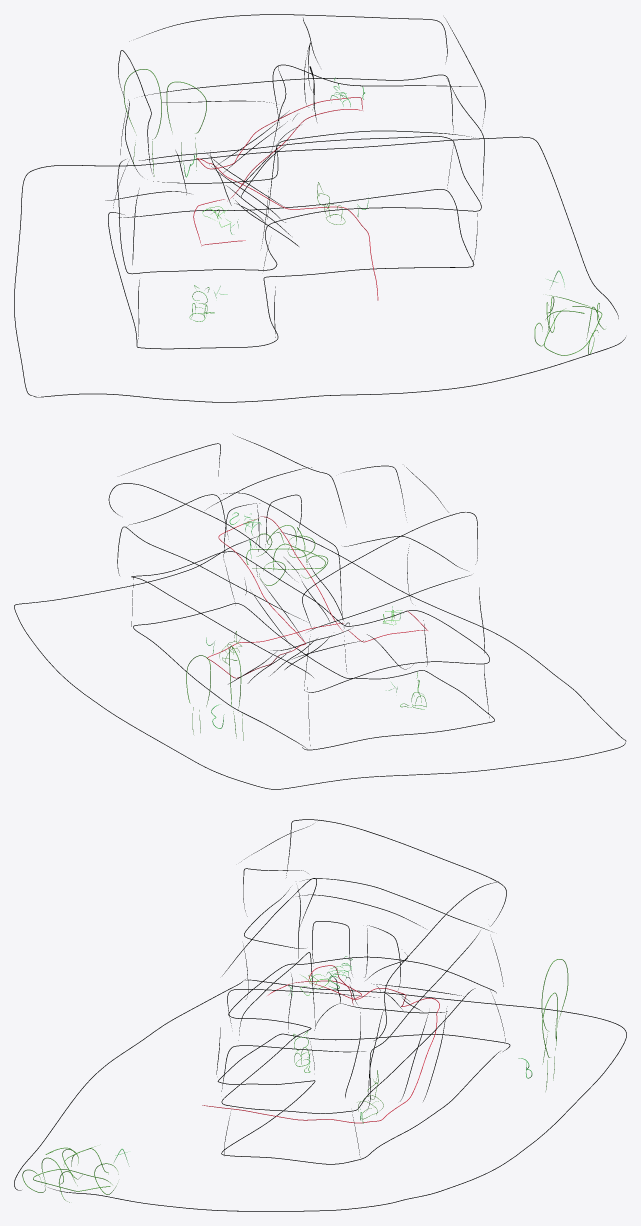
3 renders of one model, top to bottom at view 1: azimuth 30°, elevation 25°; view 2: azimuth 150°, elevation 25°; view 3: azimuth 270°, elevation 25°, orthographic. The views are drawn at different scales.
Parts seen in each view (by area): view 1: s.0030, s.0028, s.0062, s.0029, s.0136; view 2: s.0028, s.0030, s.0062, s.0136; view 3: s.0028, s.0030, s.0062, s.0136.
Part boxes in pixels (x1,y1,x2,y2): s.0030: (108, 189, 474, 349); s.0028: (14, 136, 618, 396); s.0062: (117, 136, 481, 274); s.0029: (34, 337, 625, 402); s.0136: (196, 97, 378, 300); s.0028: (14, 534, 625, 789); s.0030: (133, 603, 494, 750); s.0062: (131, 551, 489, 692); s.0136: (207, 518, 343, 678); s.0028: (48, 979, 626, 1211); s.0030: (217, 1033, 510, 1164); s.0062: (221, 956, 496, 1113); s.0136: (202, 983, 439, 1123).
Size of the model in its own units: 103 by 94.01 by 41.32.
